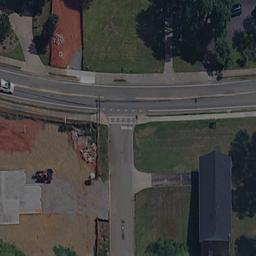Car: (1, 78, 18, 94)
Crosswalk: (107, 114, 135, 124)
Double Solid Yellow Line: (13, 83, 103, 98), (135, 90, 256, 97)
Solid White Line: (2, 93, 99, 110), (148, 105, 256, 112)
Stop Line: (121, 124, 133, 130)
White Dashed Line: (97, 106, 145, 112)
